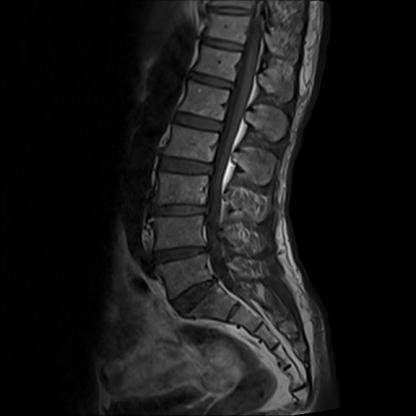Degenerative Disc Diseaserotation: (168, 280, 231, 311)
Disc Bulgerotation: (147, 196, 217, 223), (148, 241, 217, 268)
